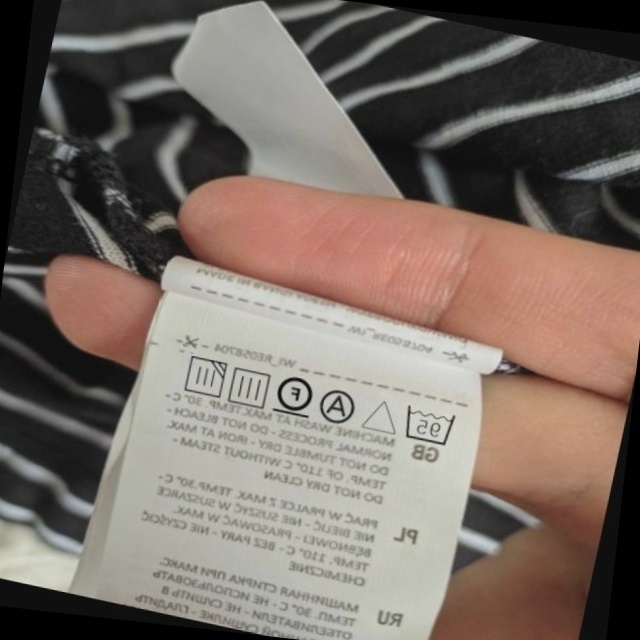95C: (397, 401, 459, 449)
bleach: (361, 392, 403, 439)
drip_dry: (224, 362, 275, 411)
drip_dry_in_shade: (177, 351, 229, 402)
dry_clean: (317, 385, 361, 428)
dry_clean_petrol_only: (271, 368, 317, 420)
